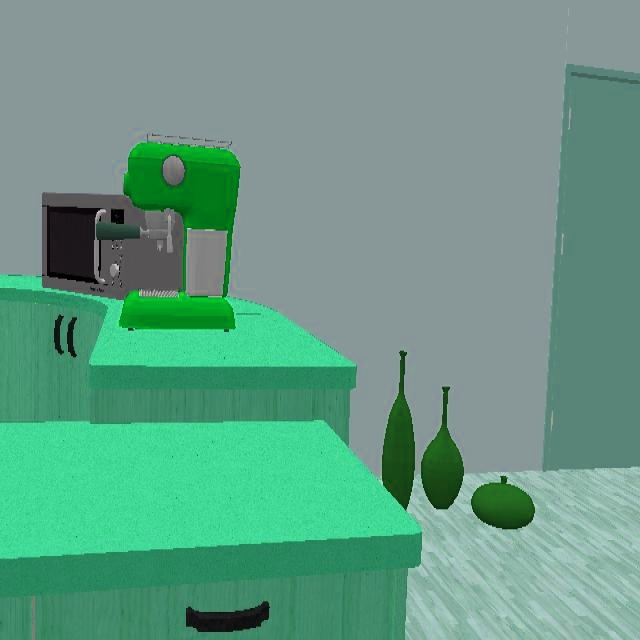cabinet: (0, 301, 349, 442), (0, 568, 408, 638)
countertop: (0, 420, 420, 594), (0, 277, 355, 389)
microwave: (42, 194, 184, 299)
